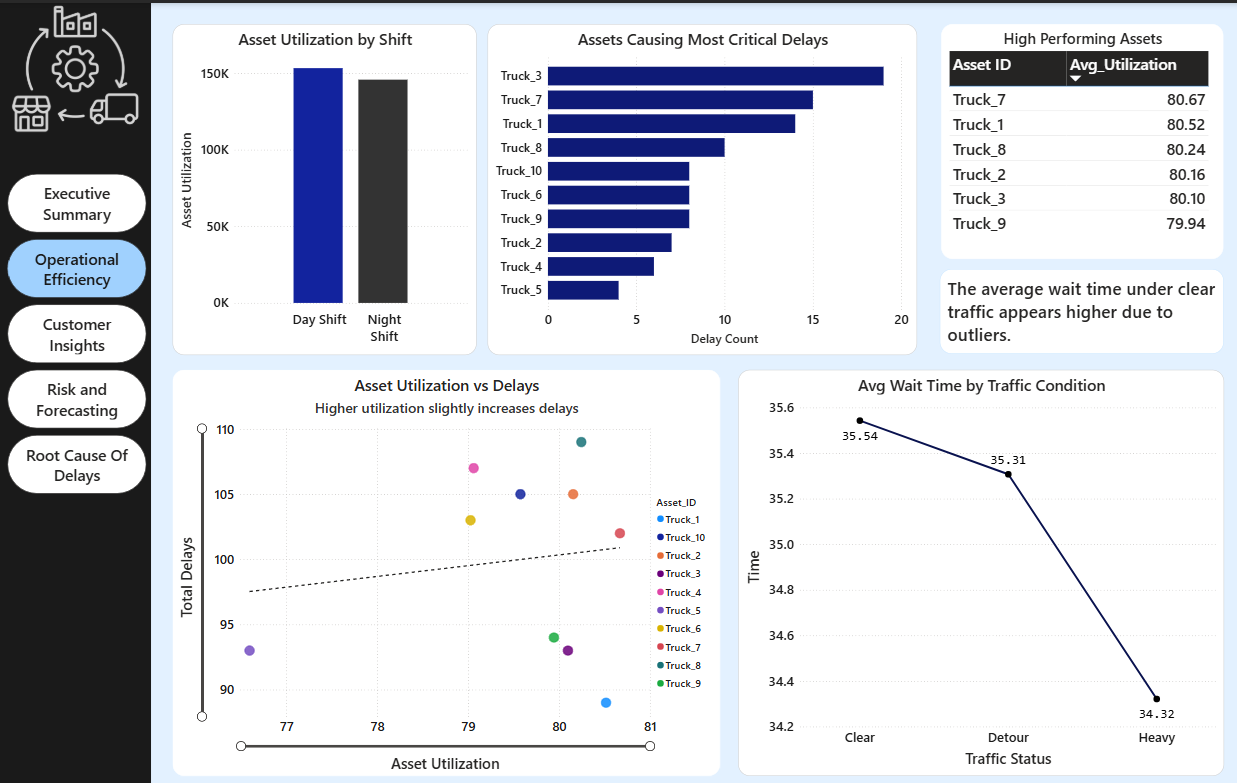

The dashboard page shown, as its layout file describes it:
{"tool":"powerbi","page":{"name":"Operational Efficiency","canvas":[1900,1200],"ordinal":1},"visuals":[{"type":"lineChart","title":"Avg Wait Time by Traffic Condition","fields":{"Category":["vw_StandardizedData.Traffic_Status"],"Y":["vw_StandardizedData.Avg Wait (No Outliers)"]},"box":[1131.3,562.1,744.6,622.1],"z":0},{"type":"clusteredBarChart","title":"Assets Causing Most Critical Delays","fields":{"Category":["vw_CriticalDelays.Asset_ID"],"Y":["Sum(vw_CriticalDelays.Critical_Delay_Count)"]},"box":[749.4,31.2,658.1,506.8],"z":1000},{"type":"clusteredColumnChart","title":"Asset Utilization by Shift","fields":{"Category":["vw_ShiftType.Shift_Type"],"Y":["Sum(vw_ShiftType.User_Transaction_Amount)"]},"box":[266.6,31.2,466,506.8],"z":2000},{"type":"tableEx","title":"High Performing Assets","fields":{"Values":["vw_HighPerformingAssets.Asset_ID","vw_HighPerformingAssets.Avg_Utilization"]},"box":[1443.2,32.2,433.2,345.3],"z":3000},{"type":"scatterChart","title":"Asset Utilization vs Delays","fields":{"X":["vw_AssetKPIs.Avg_Utilization"],"Y":["vw_AssetKPIs.Total_Delays"],"Series":["vw_AssetKPIs.Asset_ID"]},"box":[266.6,562.1,838.3,622.1],"z":4000},{"type":"shape","box":[0,0,233,1201],"z":5000},{"type":"pageNavigator","title":"Navigate","box":[12,261.8,213.8,492.4],"z":7000},{"type":"image","title":"Logo","box":[9.6,0,216.2,201.8],"z":8000},{"type":"textbox","box":[1443.2,407.4,435.3,130.8],"z":14000}]}

Visuals, with their boxes on the page's 1900x1200 design canvas (x1, y1, x2, y2). These are canvas units, not pixel positions in the 1237x783 screenshot, which may show the page scaled, cropped or inside an application window:
"Avg Wait Time by Traffic Condition" lineChart: select_region(1131, 562, 1876, 1184)
"Assets Causing Most Critical Delays" clusteredBarChart: select_region(749, 31, 1408, 538)
"Asset Utilization by Shift" clusteredColumnChart: select_region(267, 31, 733, 538)
"High Performing Assets" tableEx: select_region(1443, 32, 1876, 378)
"Asset Utilization vs Delays" scatterChart: select_region(267, 562, 1105, 1184)
shape: select_region(0, 0, 233, 1201)
"Navigate" pageNavigator: select_region(12, 262, 226, 754)
"Logo" image: select_region(10, 0, 226, 202)
textbox: select_region(1443, 407, 1878, 538)
